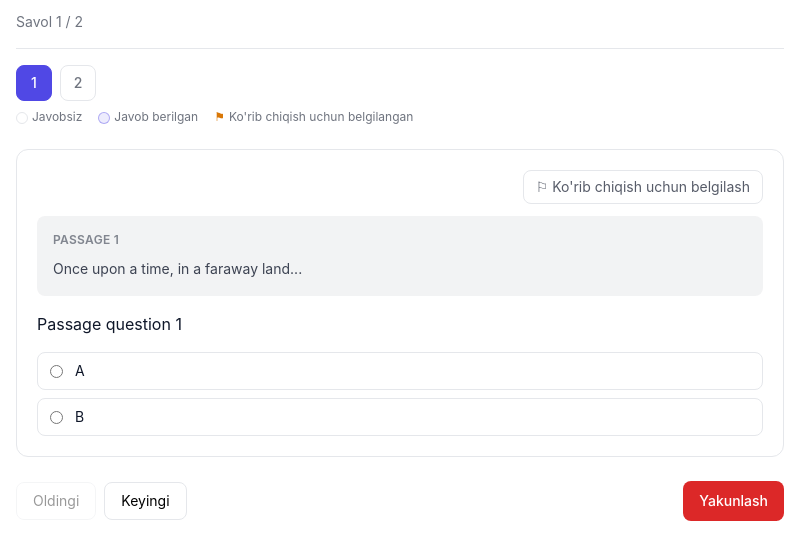
AttemptPage — Sprint 77 QuestionGroup/stimulus_text delivery › group transition: moving from group 1 to group 2 updates the stimulus panel
Check: the text "Passage question 1" is shown, box [37,314,182,334]
Check: the element with test id "group-stimulus" shows "Once upon a time", box [53,260,302,277]
Click the button "Keyingi" at [145, 501], box [104,482,187,520]
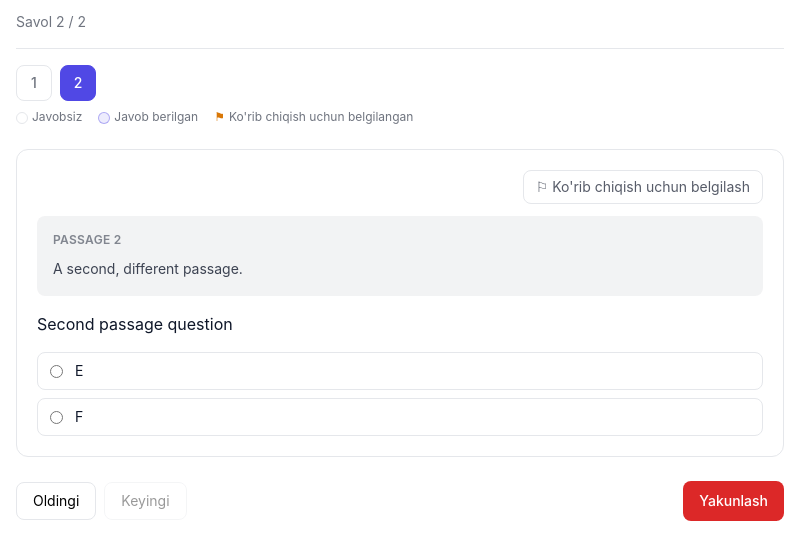
Check: the text "Second passage question" is shown, box [37,314,233,334]
Check: the element with test id "group-stimulus" shows "A second, different passage.", box [53,260,243,277]
